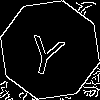Y: (25, 25, 69, 78)
